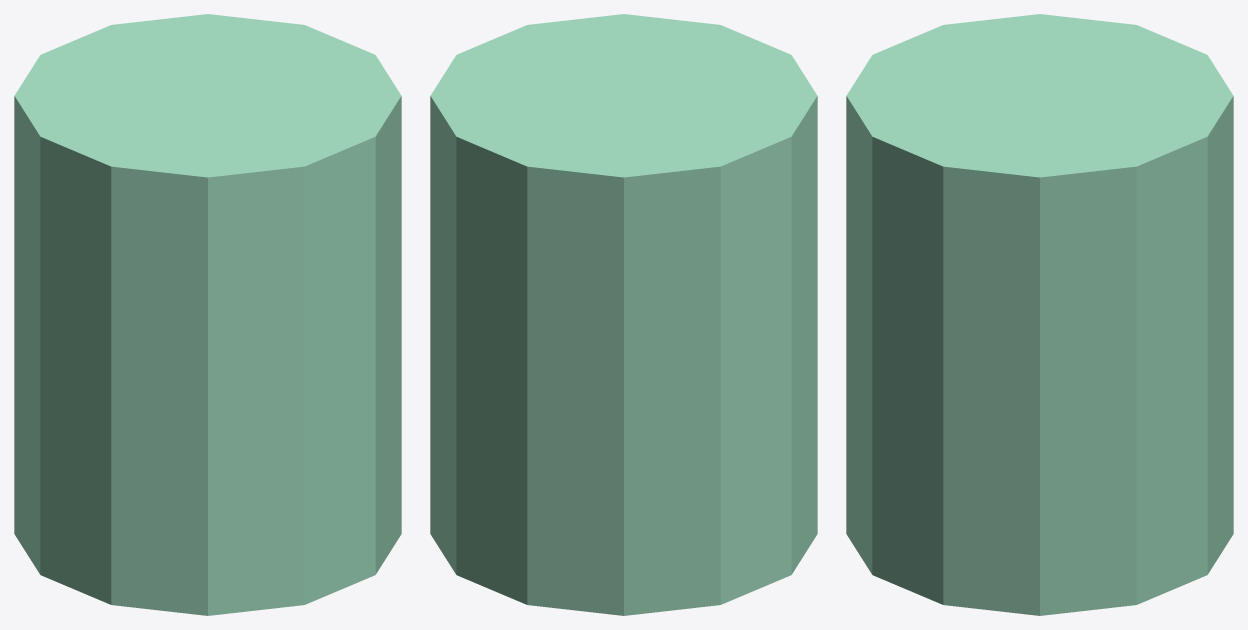
File: simbolo_3_cilindro.glb
3 views of the same model, side by side, from view 1: azimuth 30°, elevation 25°; view 2: azimuth 150°, elevation 25°; view 3: azimuth 270°, elevation 25° (orthographic).
Parts seen in each view (by area): view 1: simbolo_3_cilindro; view 2: simbolo_3_cilindro; view 3: simbolo_3_cilindro.
Part boxes in pixels (box(x1,y1,x2,y2)): simbolo_3_cilindro: box(14, 14, 401, 615); simbolo_3_cilindro: box(430, 14, 817, 615); simbolo_3_cilindro: box(846, 14, 1233, 615).
Bounding box in the file's own units: 0.56 × 0.7 × 0.56.
